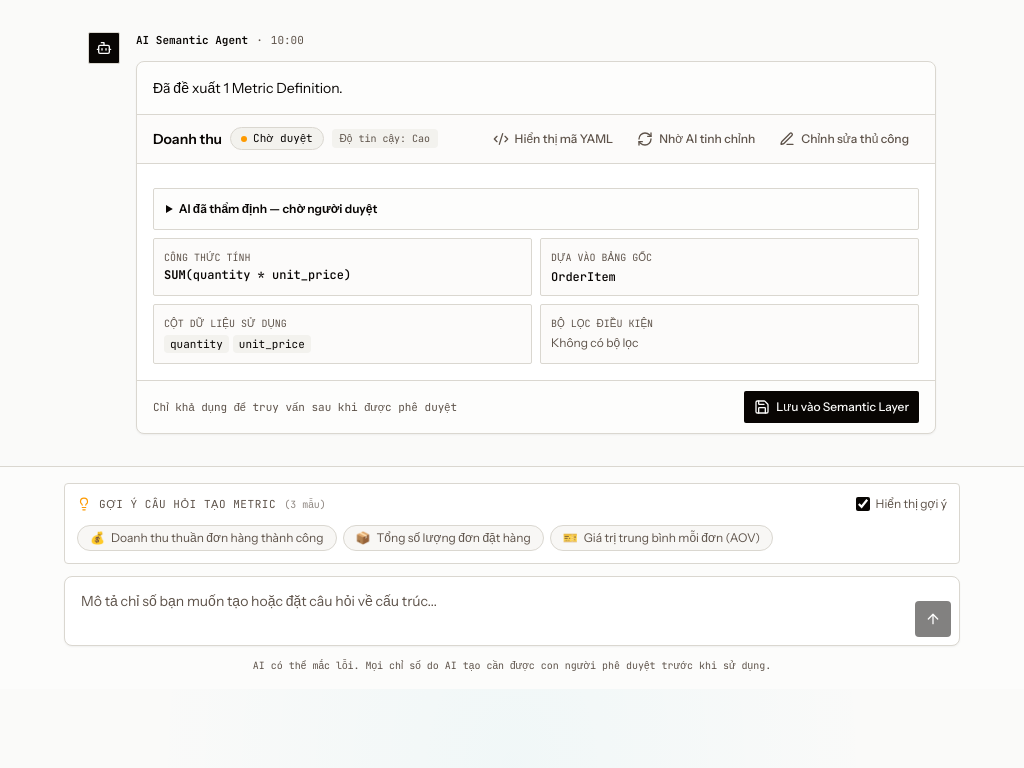
it: StudioChatStream › shows used column names and keeps the proposal text inside its definition card
The image size is (1024, 768).
Expected: the text "Công thức tính" is shown, [164,250,250,264]
Expected: the text "Dựa vào bảng gốc" is shown, [551,250,652,264]
What coordinates should you click on to do the following:
click the button "Hiển thị mã YAML"
I would click on:
 (553, 138)
Its box is [483,124,623,152].
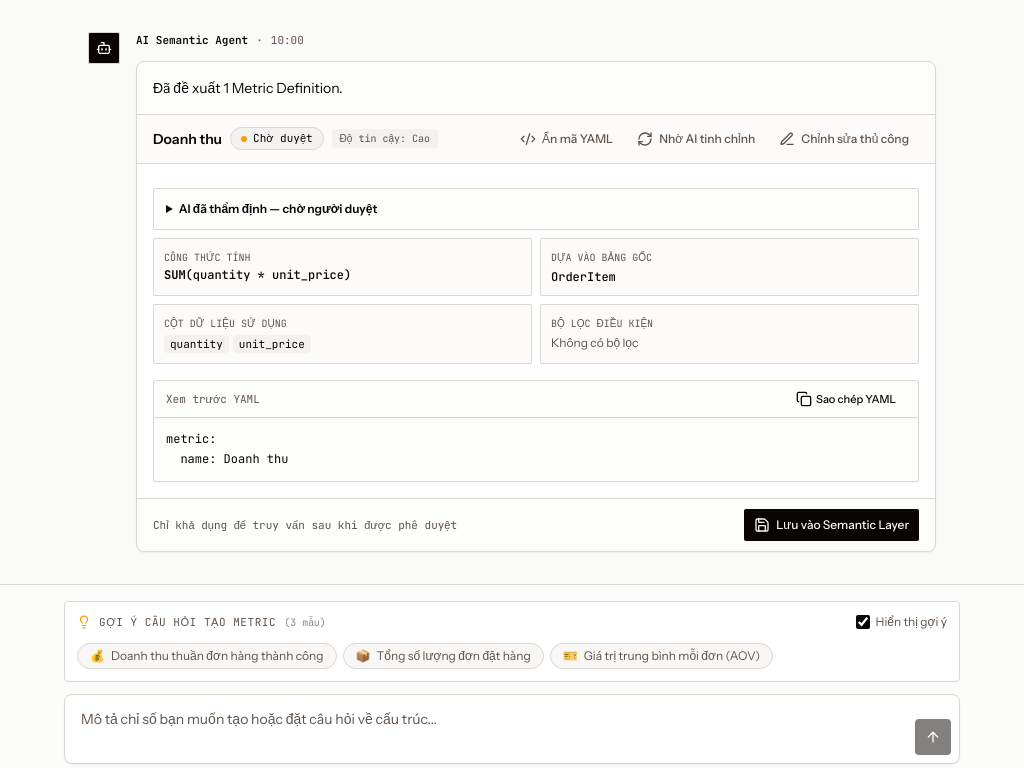
Expected: the text "metric: name: Doanh thu" is shown, [166,431,288,467]
